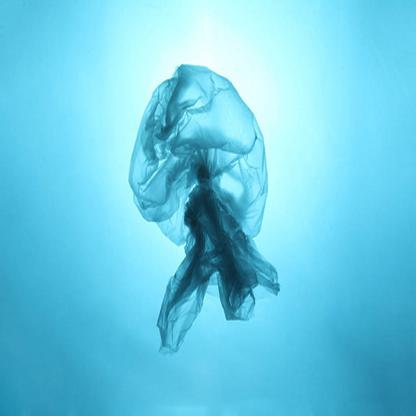plastic bag: (128, 62, 281, 350)
